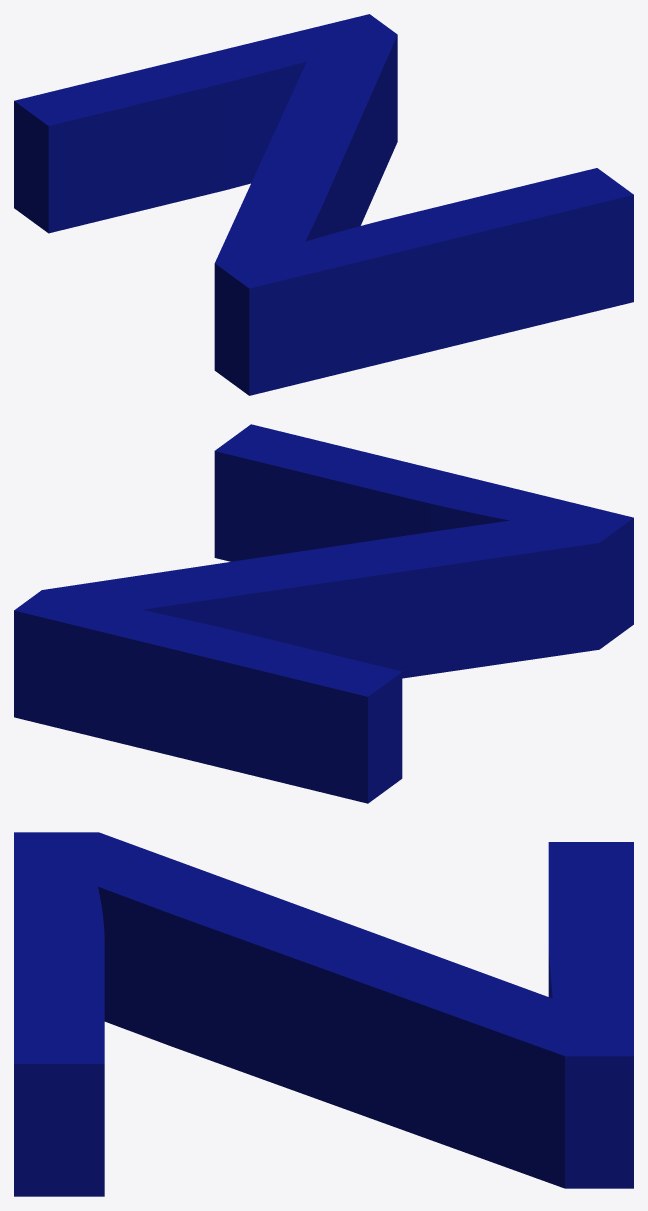
3 views of the same model, one above another, from view 1: azimuth 30°, elevation 25°; view 2: azimuth 150°, elevation 25°; view 3: azimuth 270°, elevation 25° (orthographic). The views are drawn at different scales.
Parts seen in each view (by area): view 1: TextPlus052; view 2: TextPlus052; view 3: TextPlus052.
Boxes of the visible parts, x1,y1,x2,y2 form: TextPlus052: (14, 14, 633, 395); TextPlus052: (14, 424, 633, 803); TextPlus052: (14, 832, 633, 1196).
Size of the model in its own units: 16.44 by 4.38 by 18.6.
